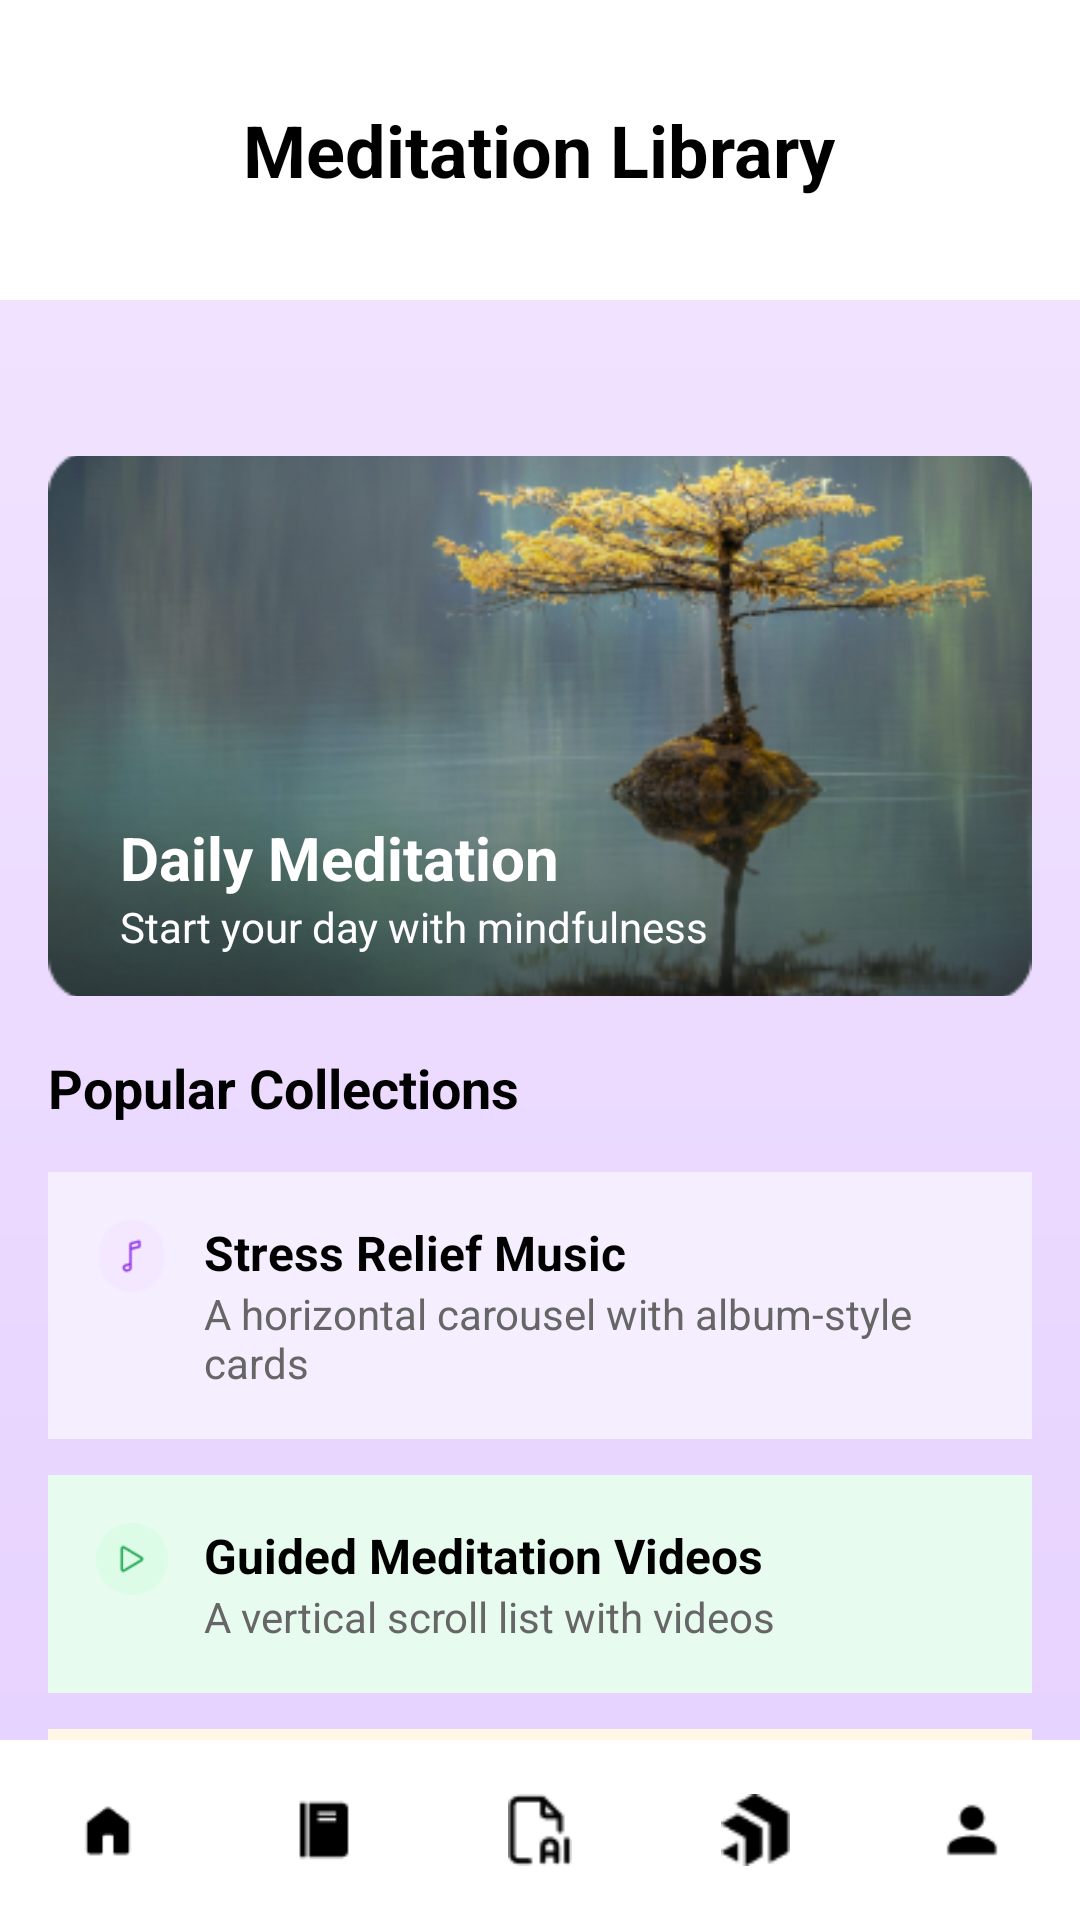

Named icons in this screenshot (1080×1920) and their centers, [x,y]:
Journal: [324,1830]
play: [132,1559]
Profile: [972,1830]
